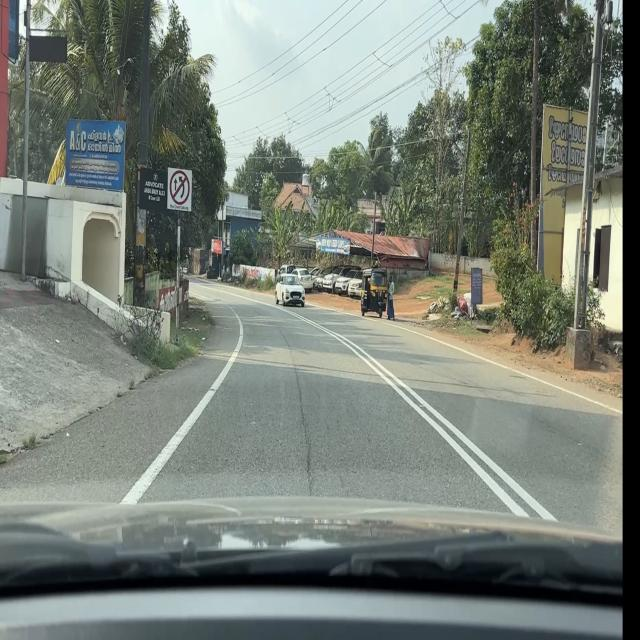OVERTAKING_PROHIBITED: (166, 165, 192, 213)
